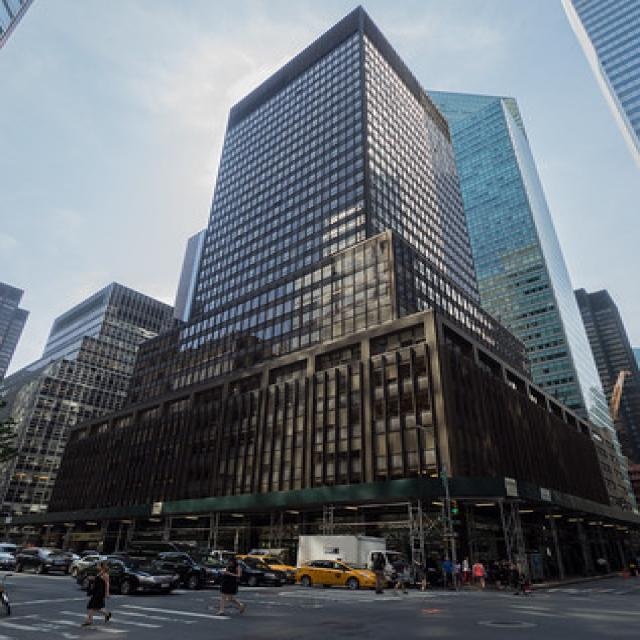building: (168, 1, 494, 574)
